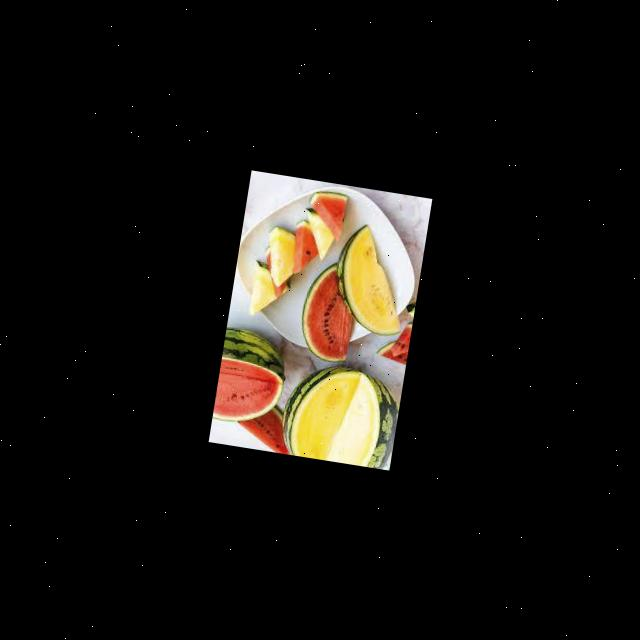watermelon: (276, 356, 404, 470), (326, 220, 416, 338), (212, 326, 290, 430), (294, 256, 362, 364), (231, 398, 298, 454), (247, 260, 293, 320), (260, 225, 300, 289), (303, 189, 348, 242), (297, 206, 338, 261), (288, 218, 324, 278), (258, 244, 294, 300), (374, 337, 408, 365), (390, 320, 412, 358), (404, 302, 416, 318)
